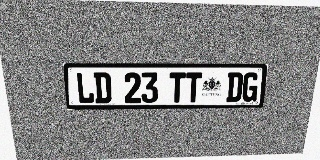2: (124, 72, 141, 103)
3: (141, 72, 158, 103)
D: (93, 72, 112, 103), (226, 72, 244, 102)
G: (241, 72, 259, 102)
L: (75, 72, 95, 104)
T: (169, 72, 186, 103), (185, 72, 202, 102)
